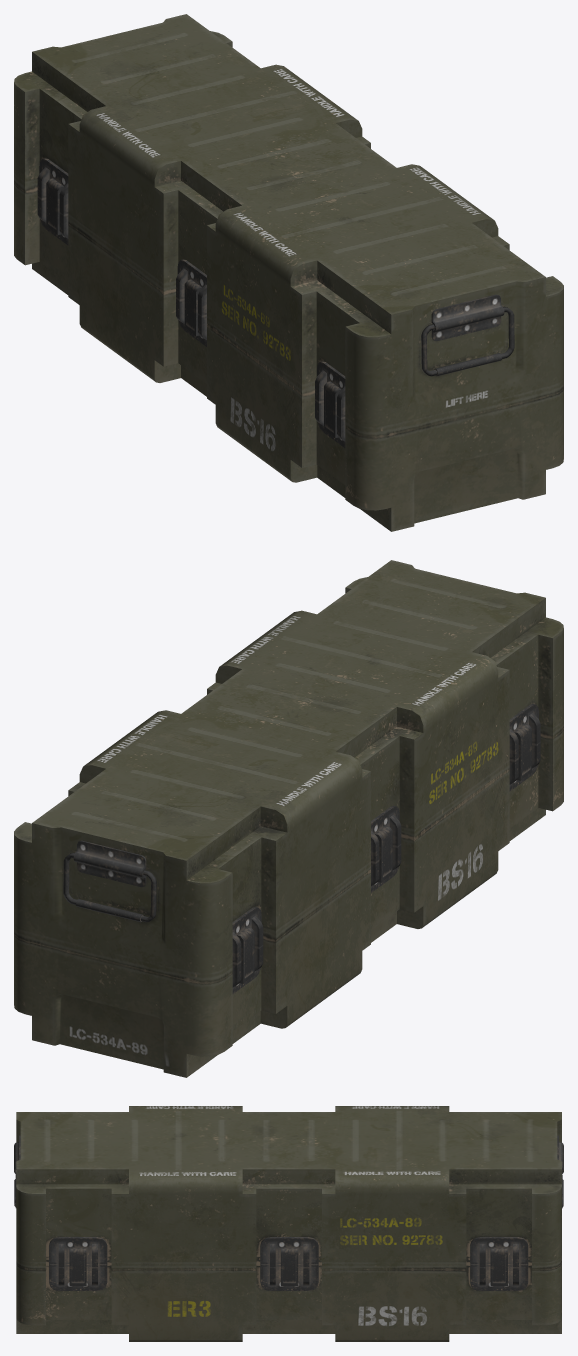
Rendered from prop_crate.glb.
3 views of the same model, one above another, from view 1: azimuth 30°, elevation 25°; view 2: azimuth 150°, elevation 25°; view 3: azimuth 270°, elevation 25° (orthographic). The views are drawn at different scales.
Parts seen in each view (by area): view 1: Object_3; view 2: Object_3; view 3: Object_3.
Part boxes in pixels (x1,y1,x2,y2): Object_3: [14, 14, 563, 531]; Object_3: [14, 560, 563, 1077]; Object_3: [14, 1106, 563, 1341].
Bounding box in the file's own units: 50 × 50 × 151.
Materials: 1 (1 with a texture image).
